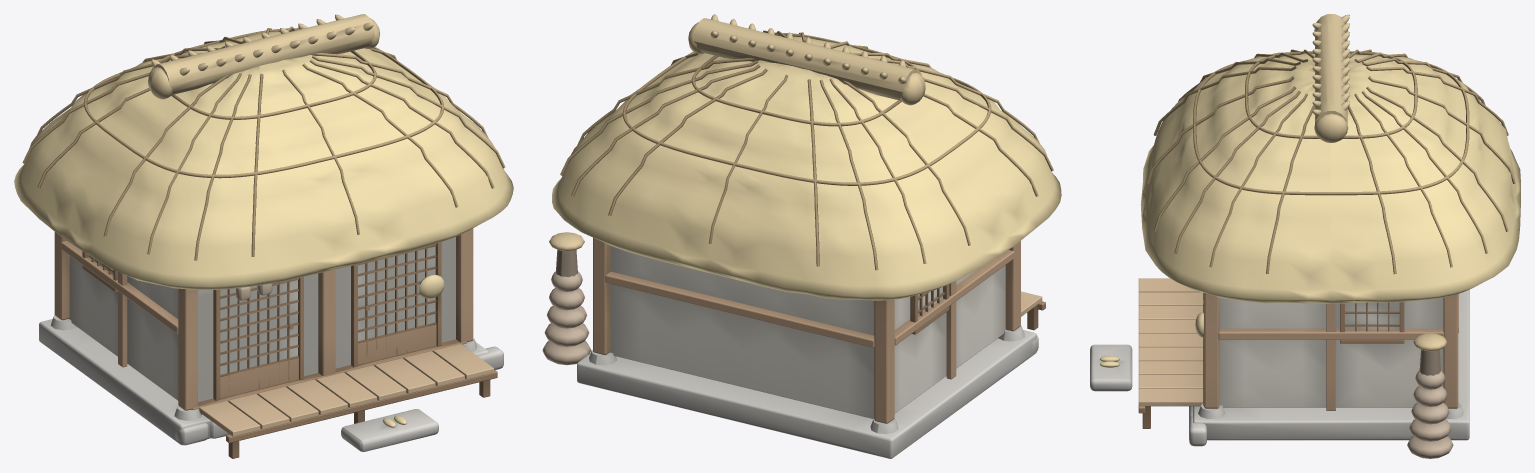
The model's file is choga.glb.
3 renders of one model, left to right at view 1: azimuth 30°, elevation 25°; view 2: azimuth 150°, elevation 25°; view 3: azimuth 270°, elevation 25°, orthographic. The views are drawn at different scales.
Visible parts, largest first — view 1: Choga; view 2: Choga; view 3: Choga.
Boxes of the visible parts, x1,y1,x2,y2 form: Choga: (14,14,513,458); Choga: (542,14,1061,458); Choga: (1090,14,1520,458).
Size of the model in its own units: 6.65 by 4.95 by 6.31.
